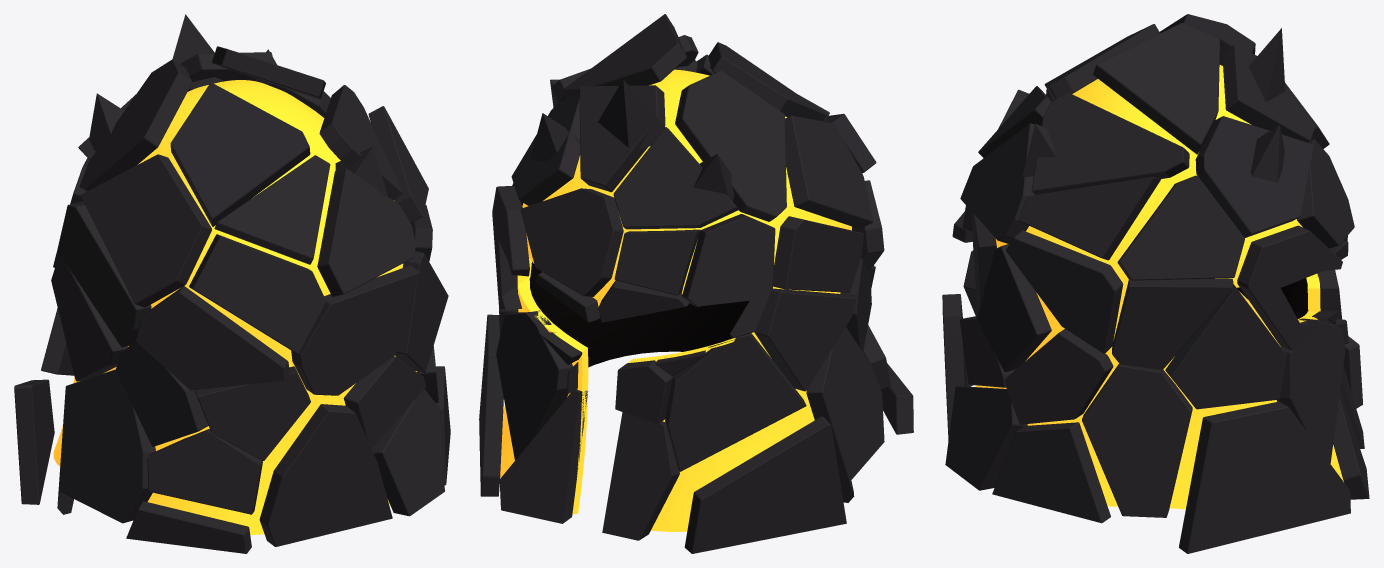
The model's file is CasqueCharbon.fbx.
The picture shows the model from 3 angles, left to right: view 1: azimuth 30°, elevation 25°; view 2: azimuth 150°, elevation 25°; view 3: azimuth 270°, elevation 25°; orthographic projection. The views are drawn at different scales.
Parts seen in each view (by area): view 1: Roche, Fissures; view 2: Roche, Fissures, Doublure; view 3: Roche, Fissures, Doublure.
Boxes of the visible parts, x1=… form: Roche: x1=14, y1=14, x2=450, y2=553; Fissures: x1=53, y1=80, x2=417, y2=534; Roche: x1=479, y1=14, x2=913, y2=553; Fissures: x1=500, y1=69, x2=851, y2=531; Doublure: x1=529, y1=262, x2=749, y2=367; Roche: x1=942, y1=14, x2=1369, y2=553; Fissures: x1=975, y1=65, x2=1343, y2=509; Doublure: x1=1237, y1=278, x2=1308, y2=318.
Bounding box in the file's own units: 220 × 232 × 207.
